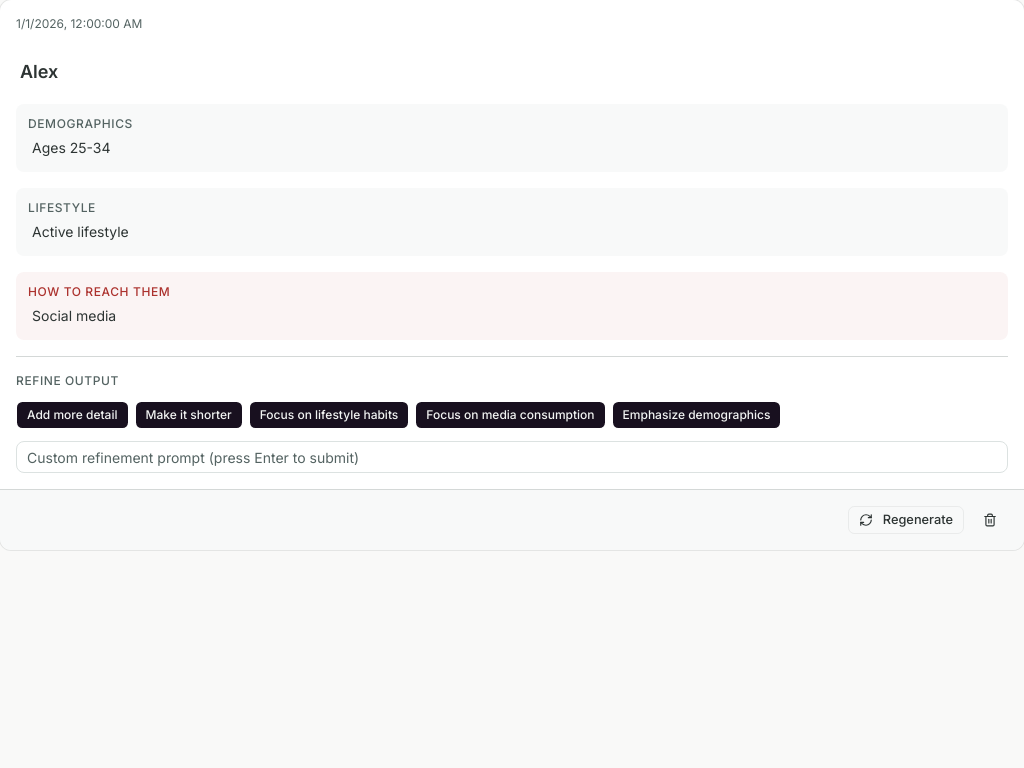
CreativeOutputEditCard › cancels regenerate confirmation when cancel is clicked
This screenshot has width=1024, height=768.
Step 1. Click the button "Regenerate" → (906, 520), box [848,506,964,534]
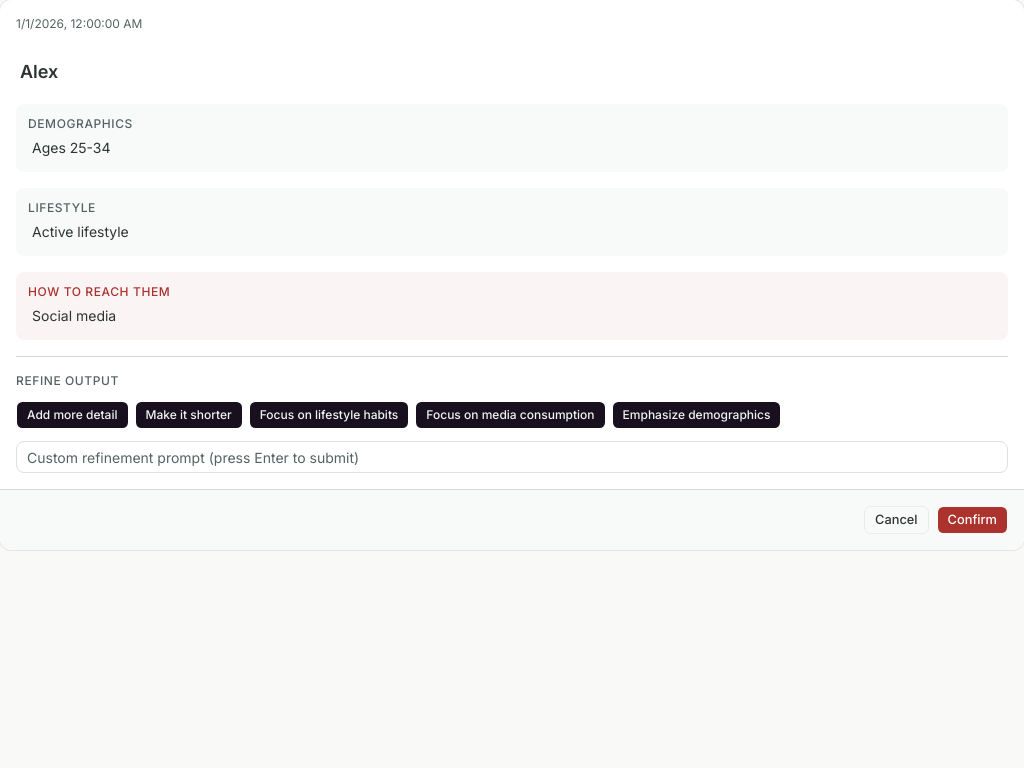
Step 2. Click the button "Cancel" → (896, 520), box [864,506,929,534]
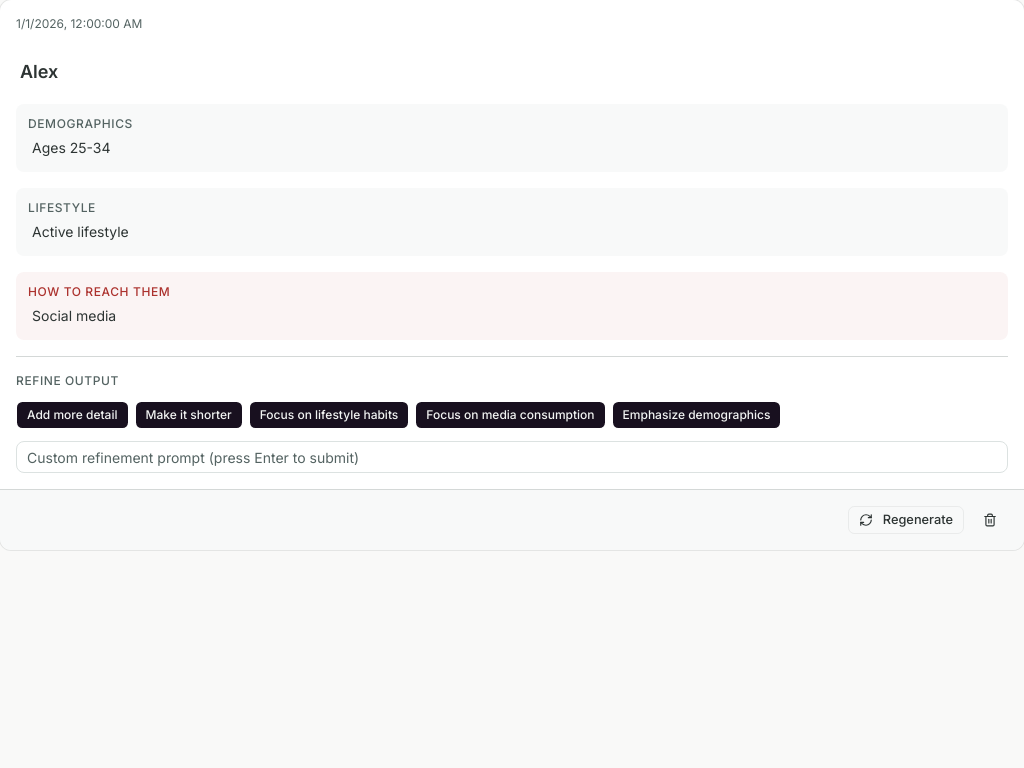
Expected: the button "Regenerate" is shown, [848,506,964,534]
